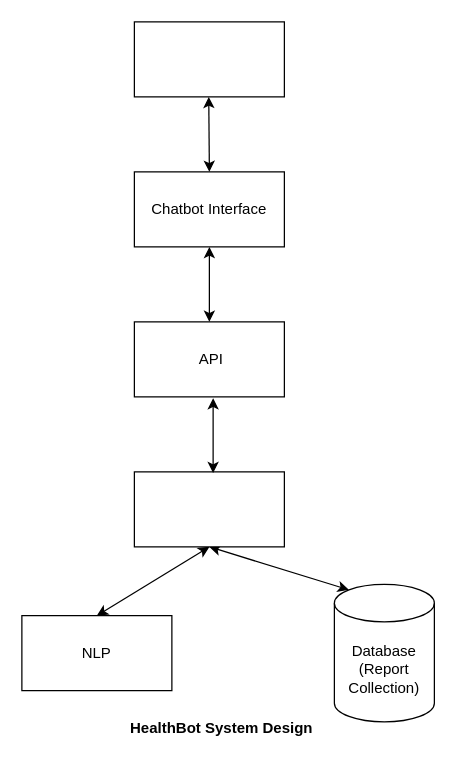
This 456x769 diagram has some shape labels left out. The centre of each missing label's shape, as x and y in pixels:
"Machine Learning Algorithm(s)" belongs at [208,509].
"User" belongs at [208,59].
